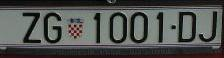.: (171, 24, 176, 30)
0: (108, 12, 128, 43), (130, 12, 149, 43)
1: (93, 11, 102, 44), (156, 11, 164, 44)
D: (178, 11, 197, 41)
G: (44, 11, 63, 44)
J: (198, 10, 218, 43)
Z: (22, 11, 42, 44)
